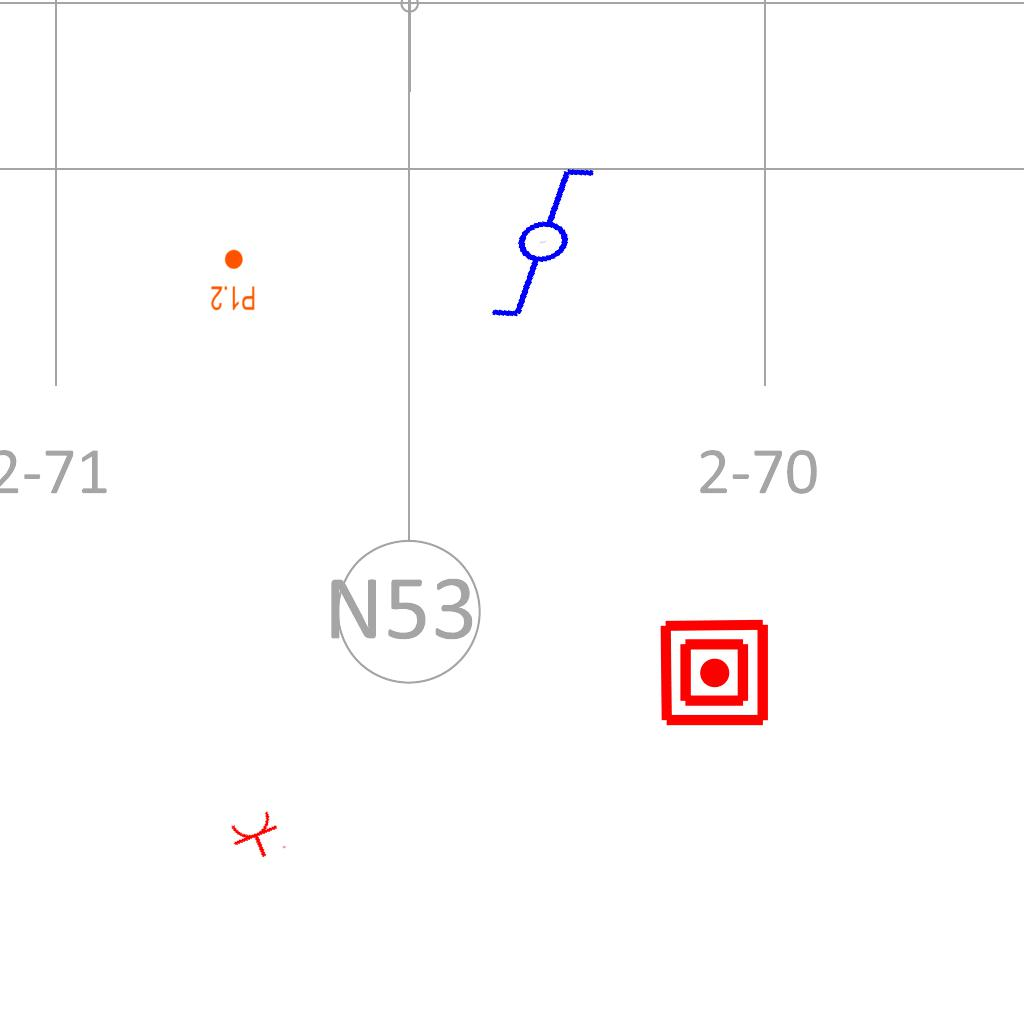Downlight_LED_Einbauleuchten_Flur: (210, 248, 256, 312)
NAM-Nichtautomatischer_Melder: (658, 616, 771, 729)
Schukosteckdose_einfach: (226, 807, 289, 867)
Wechselschalter: (458, 154, 645, 330)
